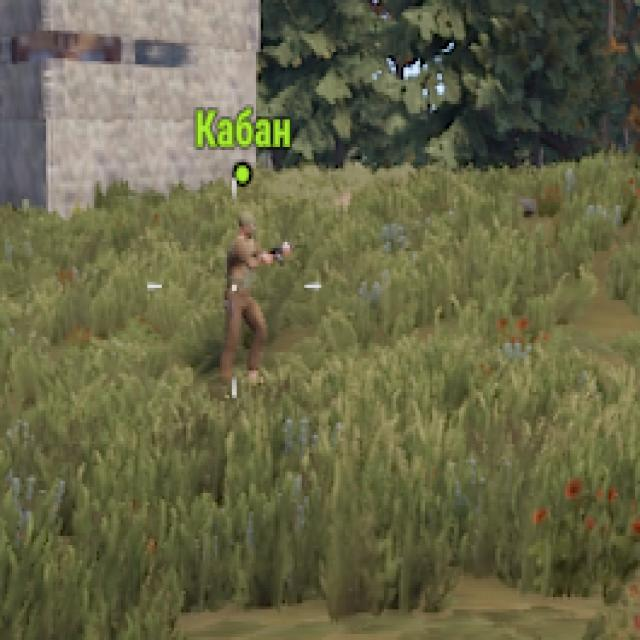Player: (223, 214, 270, 377)
